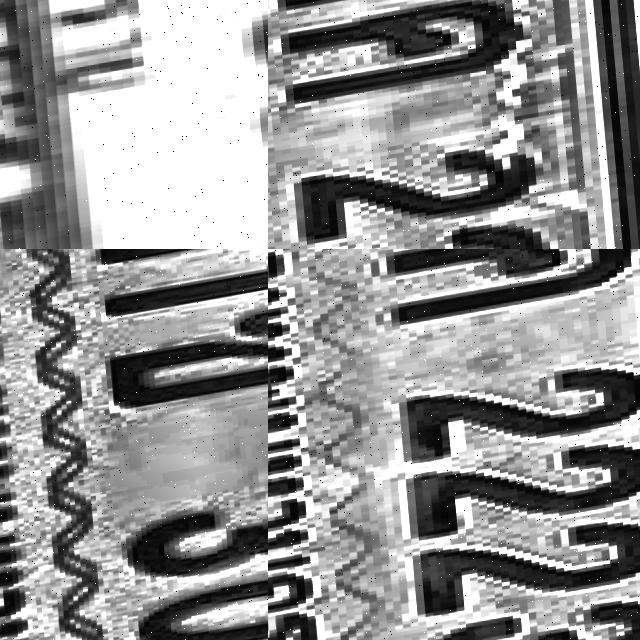license-plate: (268, 249, 640, 640), (0, 249, 268, 640), (268, 0, 640, 249), (0, 0, 268, 249)
